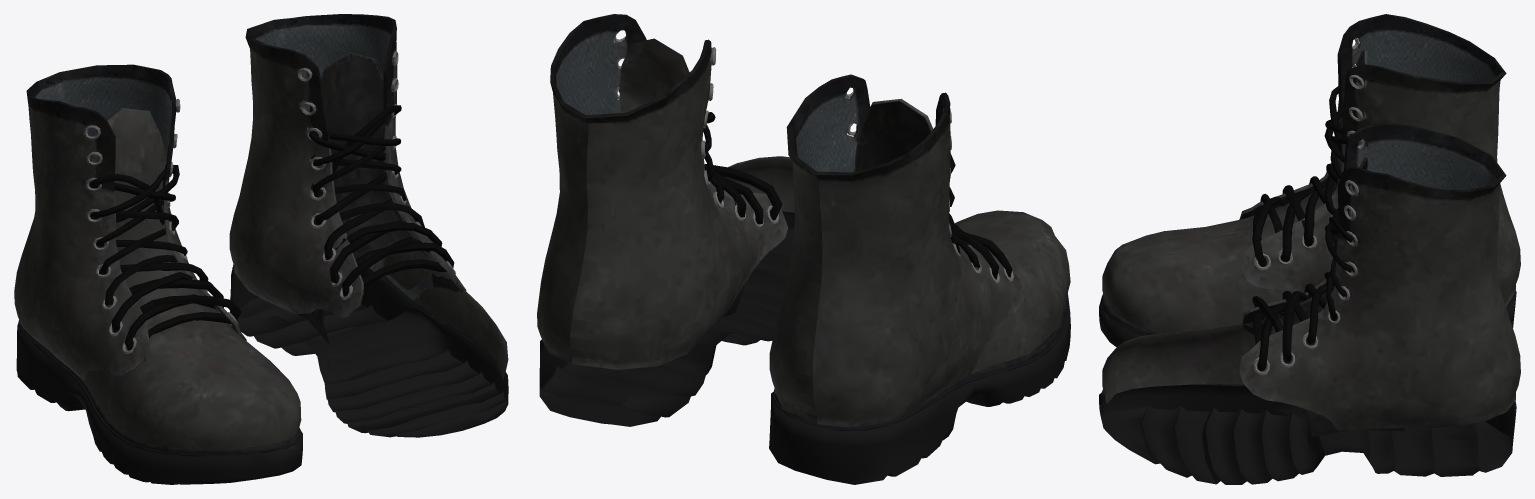
File: shoe3-transformed.glb
3 renders of one model, left to right at view 1: azimuth 30°, elevation 25°; view 2: azimuth 150°, elevation 25°; view 3: azimuth 270°, elevation 25°, orthographic. The views are drawn at different scales.
Parts seen in each view (by area): view 1: 3DSMeshMatrix (×2); view 2: 3DSMeshMatrix (×2); view 3: 3DSMeshMatrix (×2).
Boxes of the visible parts, bbox=[...] form: 3DSMeshMatrix (×2): bbox=[14, 14, 508, 484]; 3DSMeshMatrix (×2): bbox=[537, 14, 1070, 484]; 3DSMeshMatrix (×2): bbox=[1099, 14, 1520, 484].
Bounding box in the file's own units: 278 × 224 × 281.
1 material, 1 textured.
